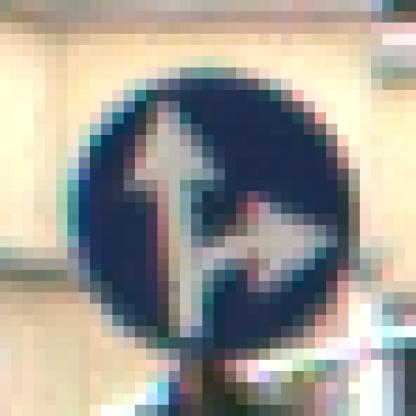Straight or Right: (57, 57, 361, 361)
